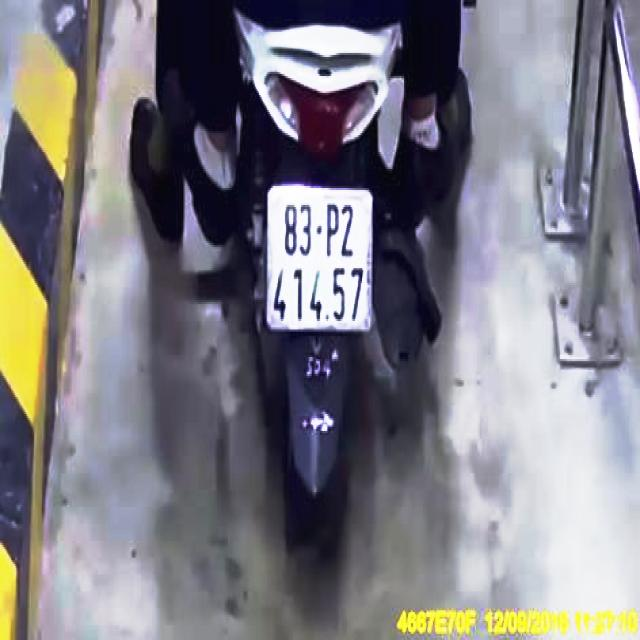license_plate: (271, 189, 371, 330)
